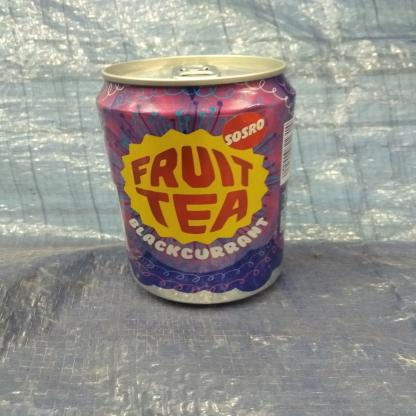can: (92, 53, 301, 310)
